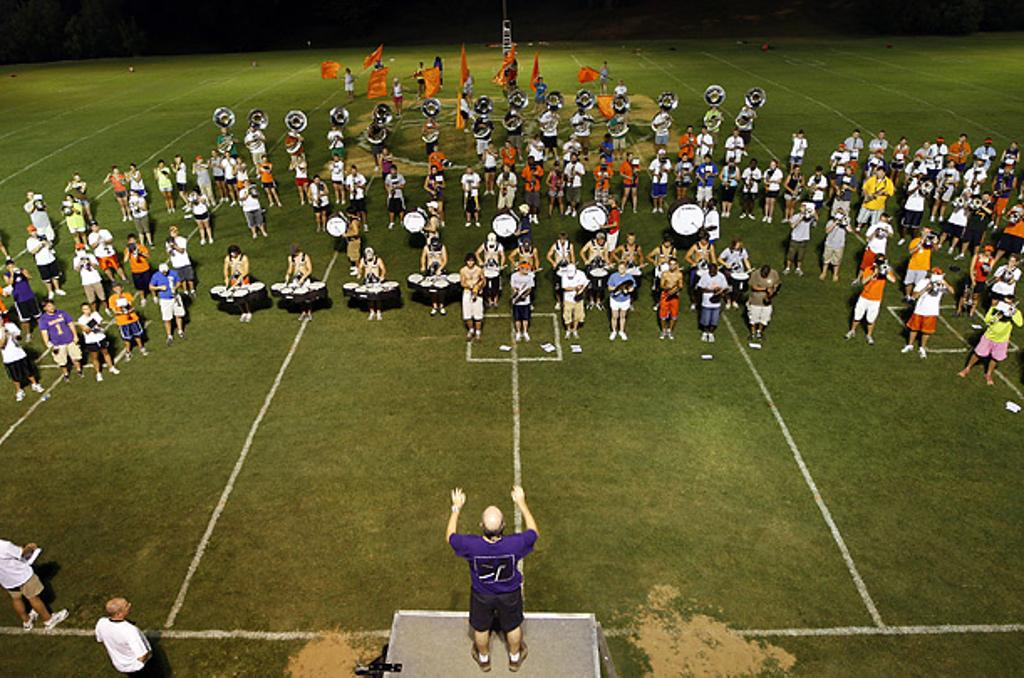face: (121, 600, 133, 617), (76, 248, 86, 258), (82, 305, 91, 314), (45, 304, 55, 312), (628, 236, 636, 245), (467, 258, 475, 267), (1003, 296, 1011, 304), (878, 169, 885, 178), (710, 268, 717, 277), (1009, 257, 1015, 267), (922, 228, 929, 236), (670, 261, 677, 269), (762, 269, 769, 277), (8, 265, 14, 273), (27, 193, 33, 201), (837, 210, 843, 218), (802, 205, 808, 213), (876, 258, 882, 266), (665, 240, 671, 248), (619, 265, 625, 273), (736, 242, 742, 250), (708, 200, 714, 208), (933, 271, 939, 278), (701, 238, 707, 245), (608, 199, 614, 206), (770, 161, 776, 168), (129, 238, 134, 246), (985, 250, 990, 258), (314, 178, 320, 184), (115, 286, 120, 293), (960, 135, 965, 142), (948, 161, 953, 168), (964, 191, 969, 198), (983, 195, 988, 202), (1004, 165, 1009, 172), (504, 166, 509, 173), (751, 161, 756, 168), (367, 251, 372, 258), (91, 226, 97, 231), (171, 231, 176, 237), (32, 232, 37, 238), (175, 157, 180, 163), (243, 180, 248, 186), (162, 270, 167, 276), (937, 140, 942, 146), (882, 216, 887, 222), (919, 174, 924, 180), (974, 164, 979, 170), (914, 161, 919, 167), (523, 268, 528, 274), (683, 156, 688, 162), (659, 154, 664, 160), (733, 131, 738, 137), (572, 155, 577, 161), (846, 168, 850, 175), (75, 176, 80, 181), (879, 132, 884, 137), (923, 143, 928, 148), (985, 142, 990, 147), (232, 252, 237, 257), (67, 197, 71, 203), (1, 318, 4, 326), (901, 139, 905, 145), (1011, 142, 1015, 148), (795, 167, 799, 173), (599, 240, 603, 246), (561, 238, 565, 244), (529, 158, 533, 164), (705, 157, 709, 163), (605, 136, 609, 142), (688, 128, 692, 134), (702, 128, 706, 134), (351, 169, 355, 175), (391, 168, 395, 174), (428, 206, 432, 212), (222, 129, 226, 134), (114, 169, 118, 174), (130, 166, 134, 171), (854, 132, 858, 137), (816, 171, 820, 176), (601, 158, 605, 163), (629, 155, 633, 160), (506, 143, 510, 148), (489, 144, 493, 149), (555, 166, 559, 171), (533, 137, 538, 141), (745, 105, 749, 110), (661, 107, 665, 112), (237, 158, 241, 163), (225, 153, 229, 158), (211, 152, 215, 157), (432, 168, 436, 173), (468, 169, 472, 174), (294, 253, 298, 258), (569, 274, 573, 279), (383, 148, 387, 153), (434, 146, 437, 152), (346, 212, 350, 216), (159, 163, 163, 167), (198, 160, 202, 164), (799, 134, 803, 138), (525, 247, 529, 251), (712, 106, 716, 110), (617, 111, 621, 115), (580, 110, 584, 114), (549, 107, 553, 111), (193, 192, 196, 197), (840, 146, 843, 151), (490, 243, 493, 248), (466, 69, 469, 74), (251, 127, 254, 131), (428, 117, 431, 121), (394, 80, 397, 84), (374, 120, 377, 124), (347, 69, 350, 73), (571, 138, 574, 142), (619, 81, 622, 85), (539, 79, 542, 83), (511, 105, 515, 108), (334, 156, 337, 160), (263, 158, 266, 162), (332, 127, 335, 130), (377, 60, 380, 63), (464, 95, 467, 98), (419, 63, 421, 66), (604, 62, 606, 64)
